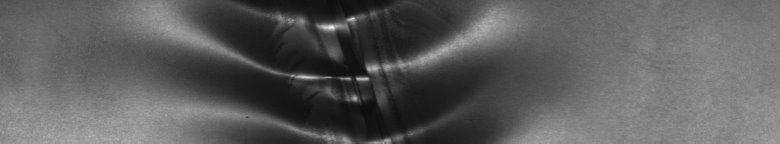ke: (201, 4, 469, 136)
